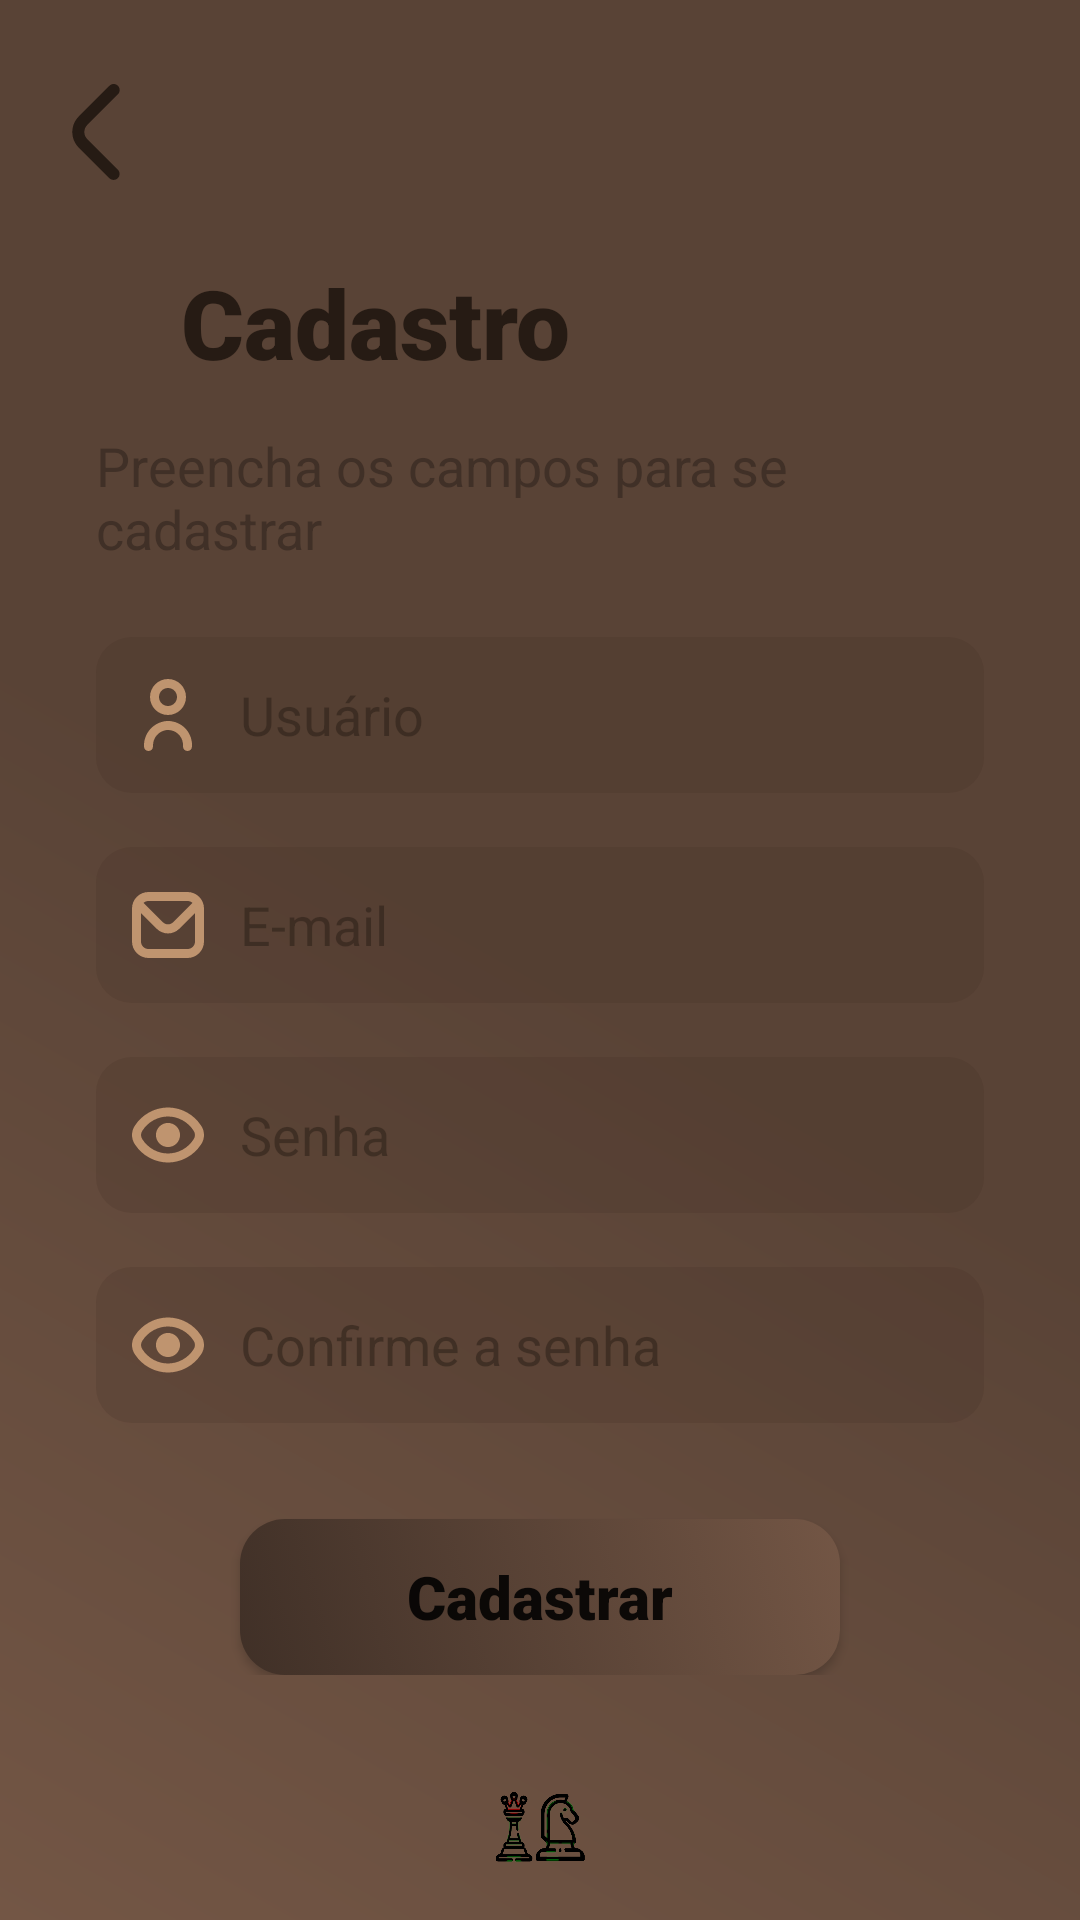

Screen size 1080px×1920px. Icon name, then its box in pixels as (x1, y1, x2, y2):
voltar: (72, 84, 120, 180)
